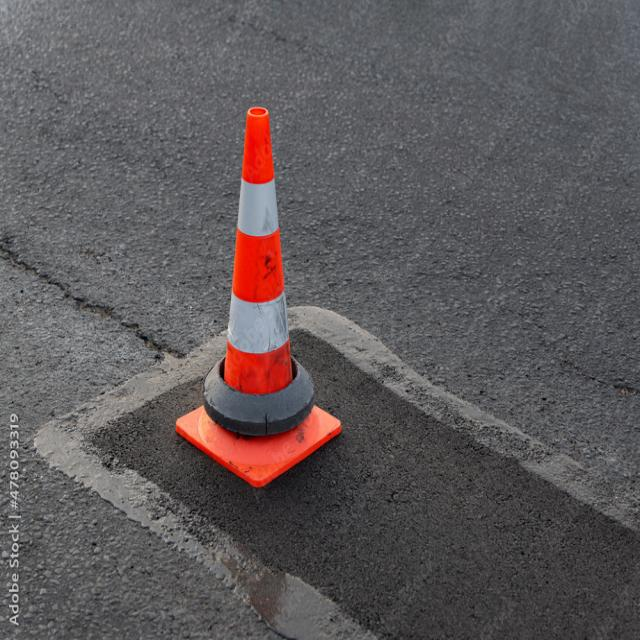Pothole: (2, 163, 512, 640)
